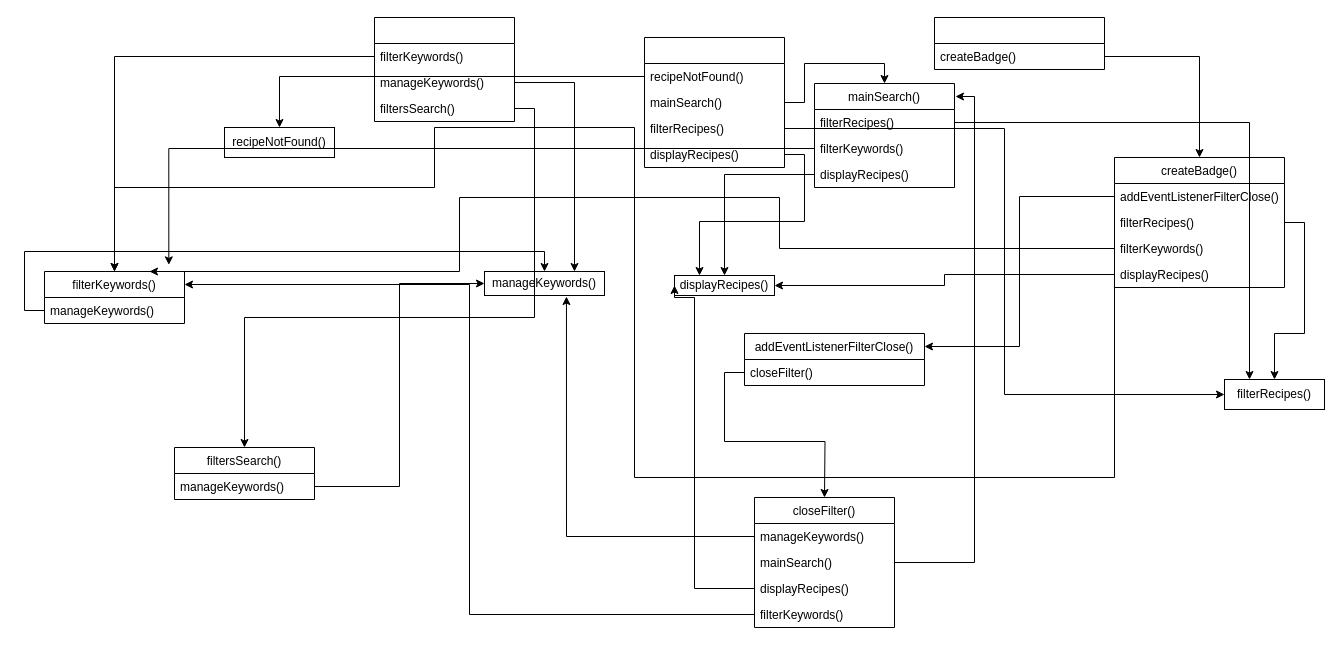
Image size: 1342x648. Some labels were removed from this diagram. Here are the shapes that lost their labels. From the top down, the box of each, then its label:
(934, 16, 1104, 70): addListenerOnKeywords()
(374, 16, 514, 122): manageInputs()
(644, 36, 784, 168): addMainSearchEvent()
